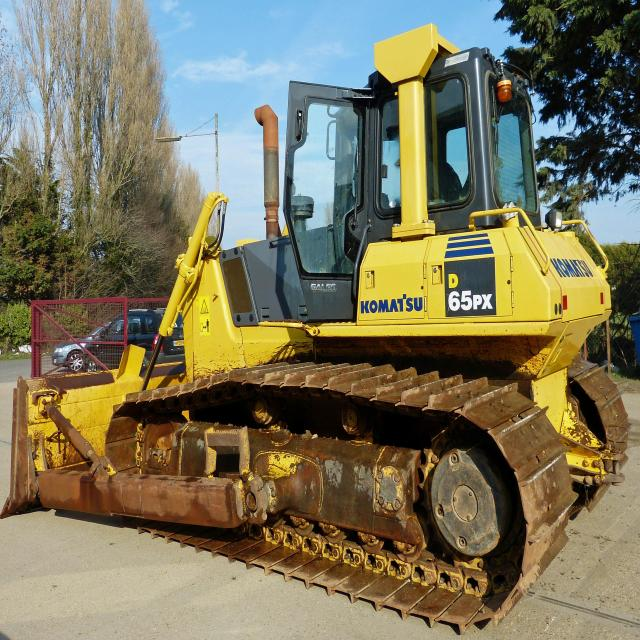Bulldozer: (18, 19, 627, 628)
